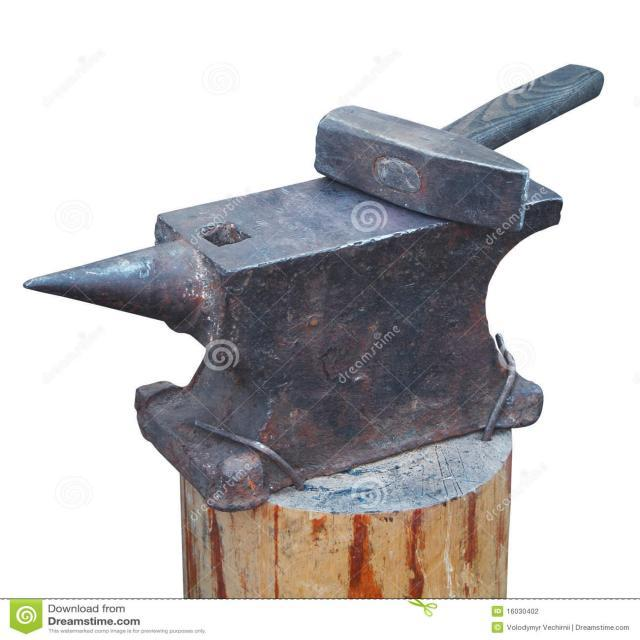hammer: (316, 45, 616, 249)
